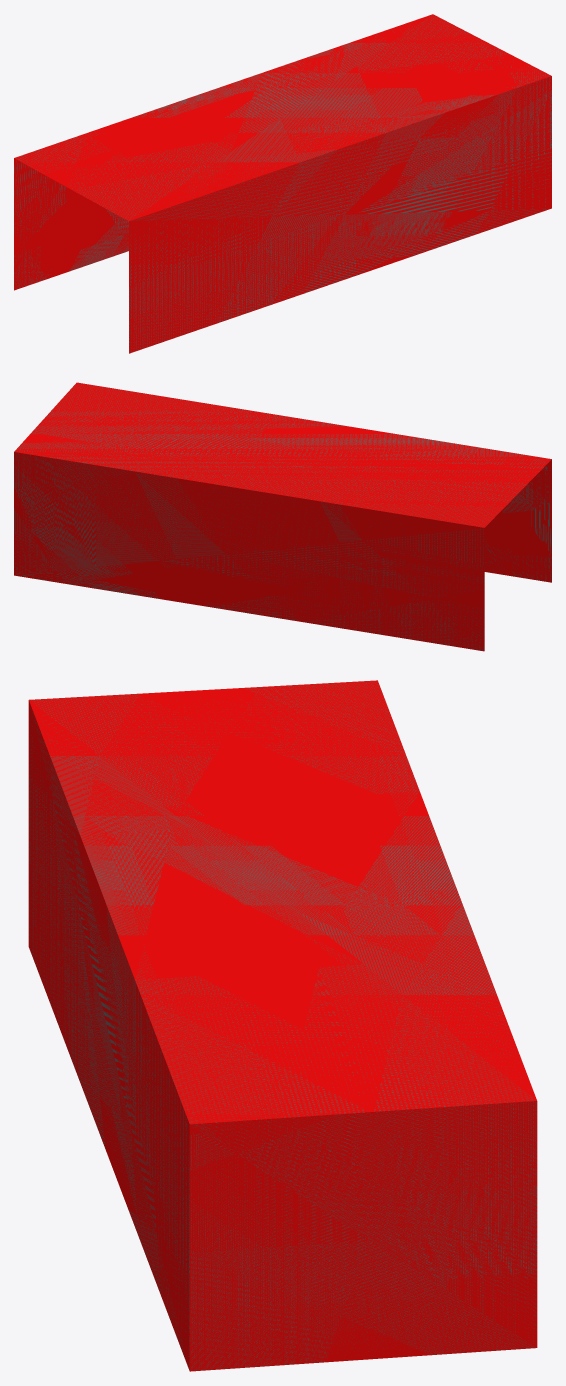
File: original-57.obj
The picture shows the model from 3 angles, top to bottom: view 1: azimuth 30°, elevation 25°; view 2: azimuth 150°, elevation 25°; view 3: azimuth 270°, elevation 25°; orthographic projection. The views are drawn at different scales.
Visible parts, largest first — view 1: mesh43/mesh43-geometry/material_3#mesh43-geometry; view 2: mesh43/mesh43-geometry/material_3#mesh43-geometry; view 3: mesh43/mesh43-geometry/material_3#mesh43-geometry.
Boxes of the visible parts, <box> form: mesh43/mesh43-geometry/material_3#mesh43-geometry: <box>14,14,551,353</box>; mesh43/mesh43-geometry/material_3#mesh43-geometry: <box>14,382,551,651</box>; mesh43/mesh43-geometry/material_3#mesh43-geometry: <box>28,680,537,1371</box>.
Bounding box in the file's own units: 0.0452 × 0.0117 × 0.0219.
